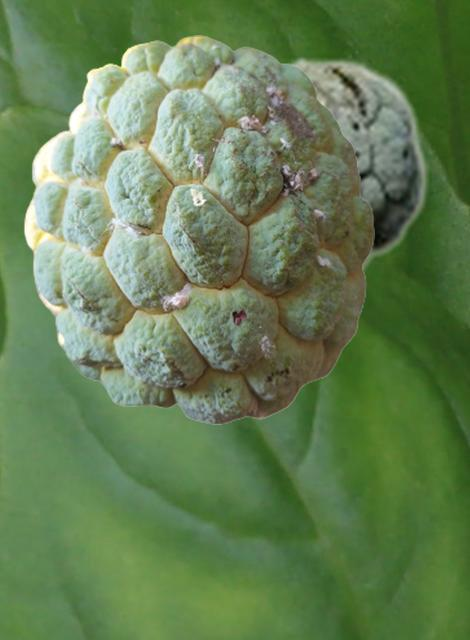atis: (23, 35, 373, 423), (231, 47, 428, 275)
